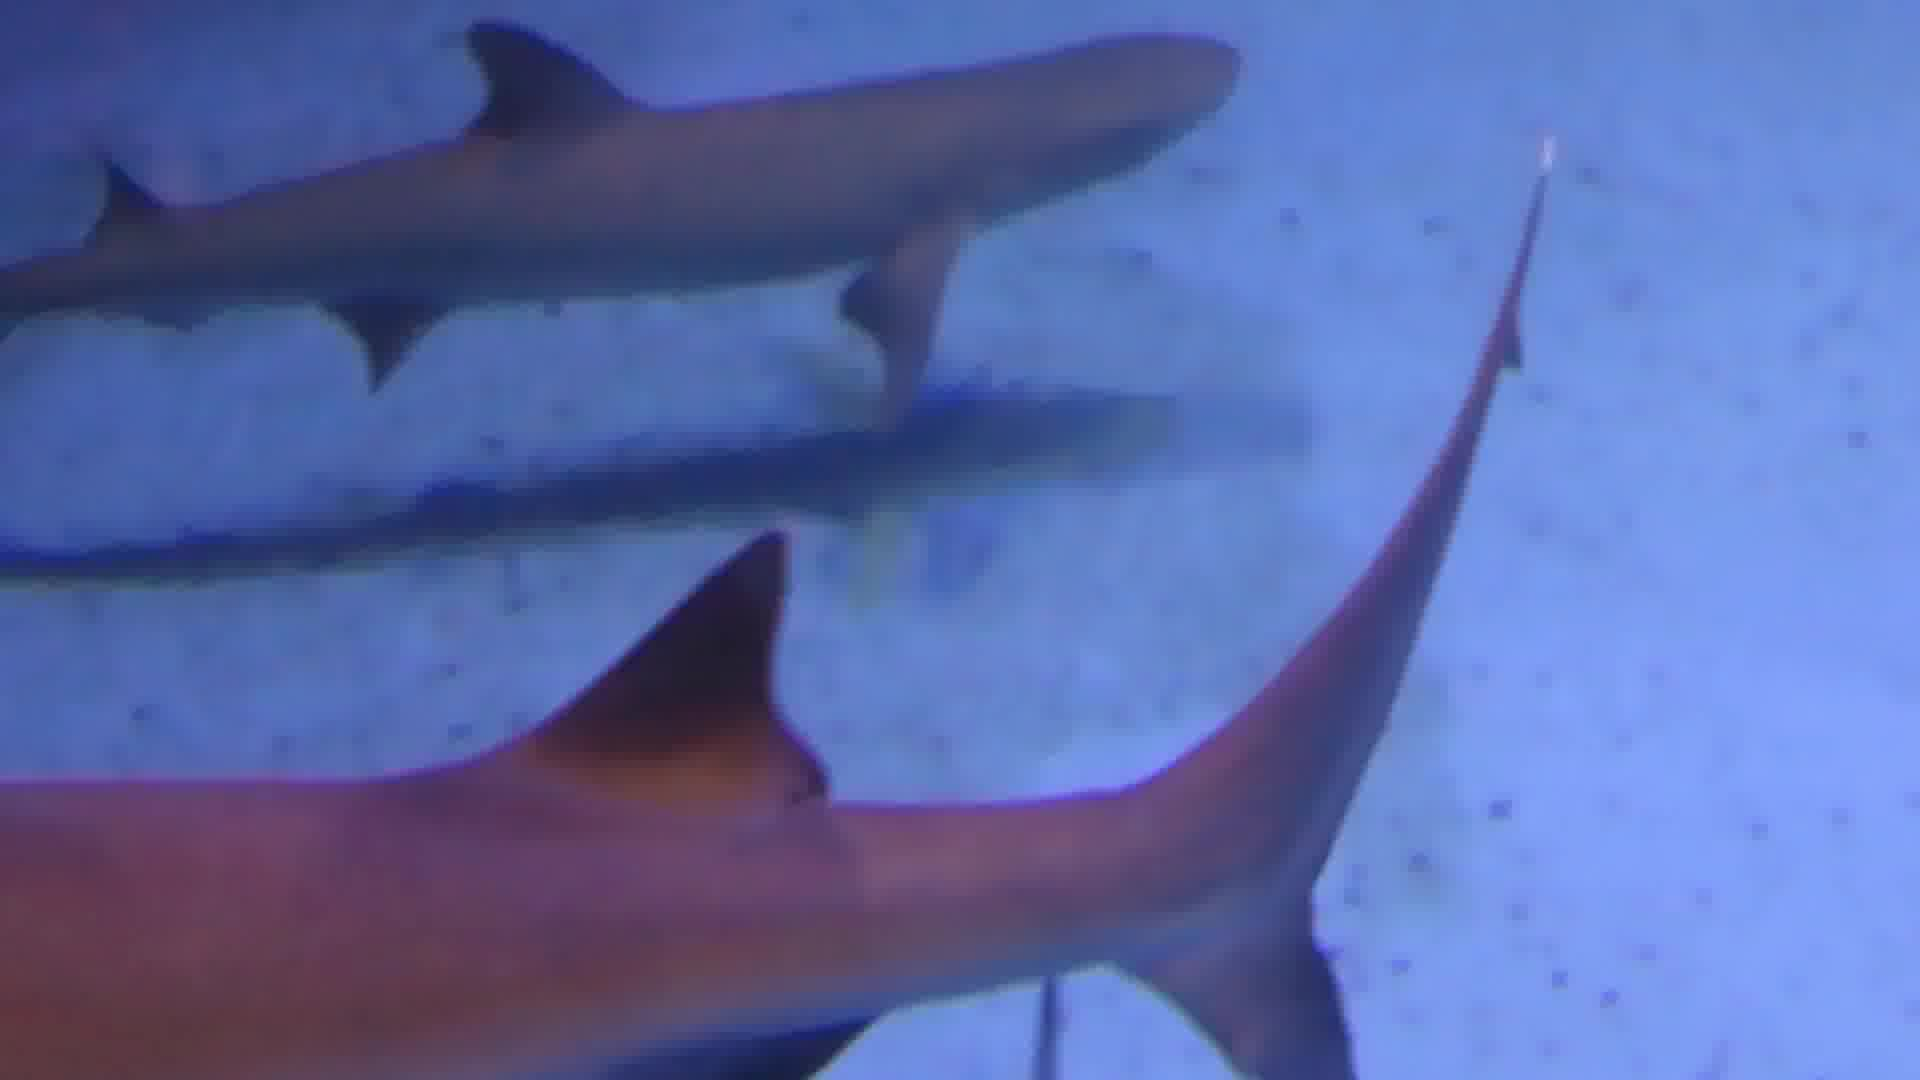Triaenodon obesus: (1, 500, 1538, 1080), (1, 1, 1331, 429)
